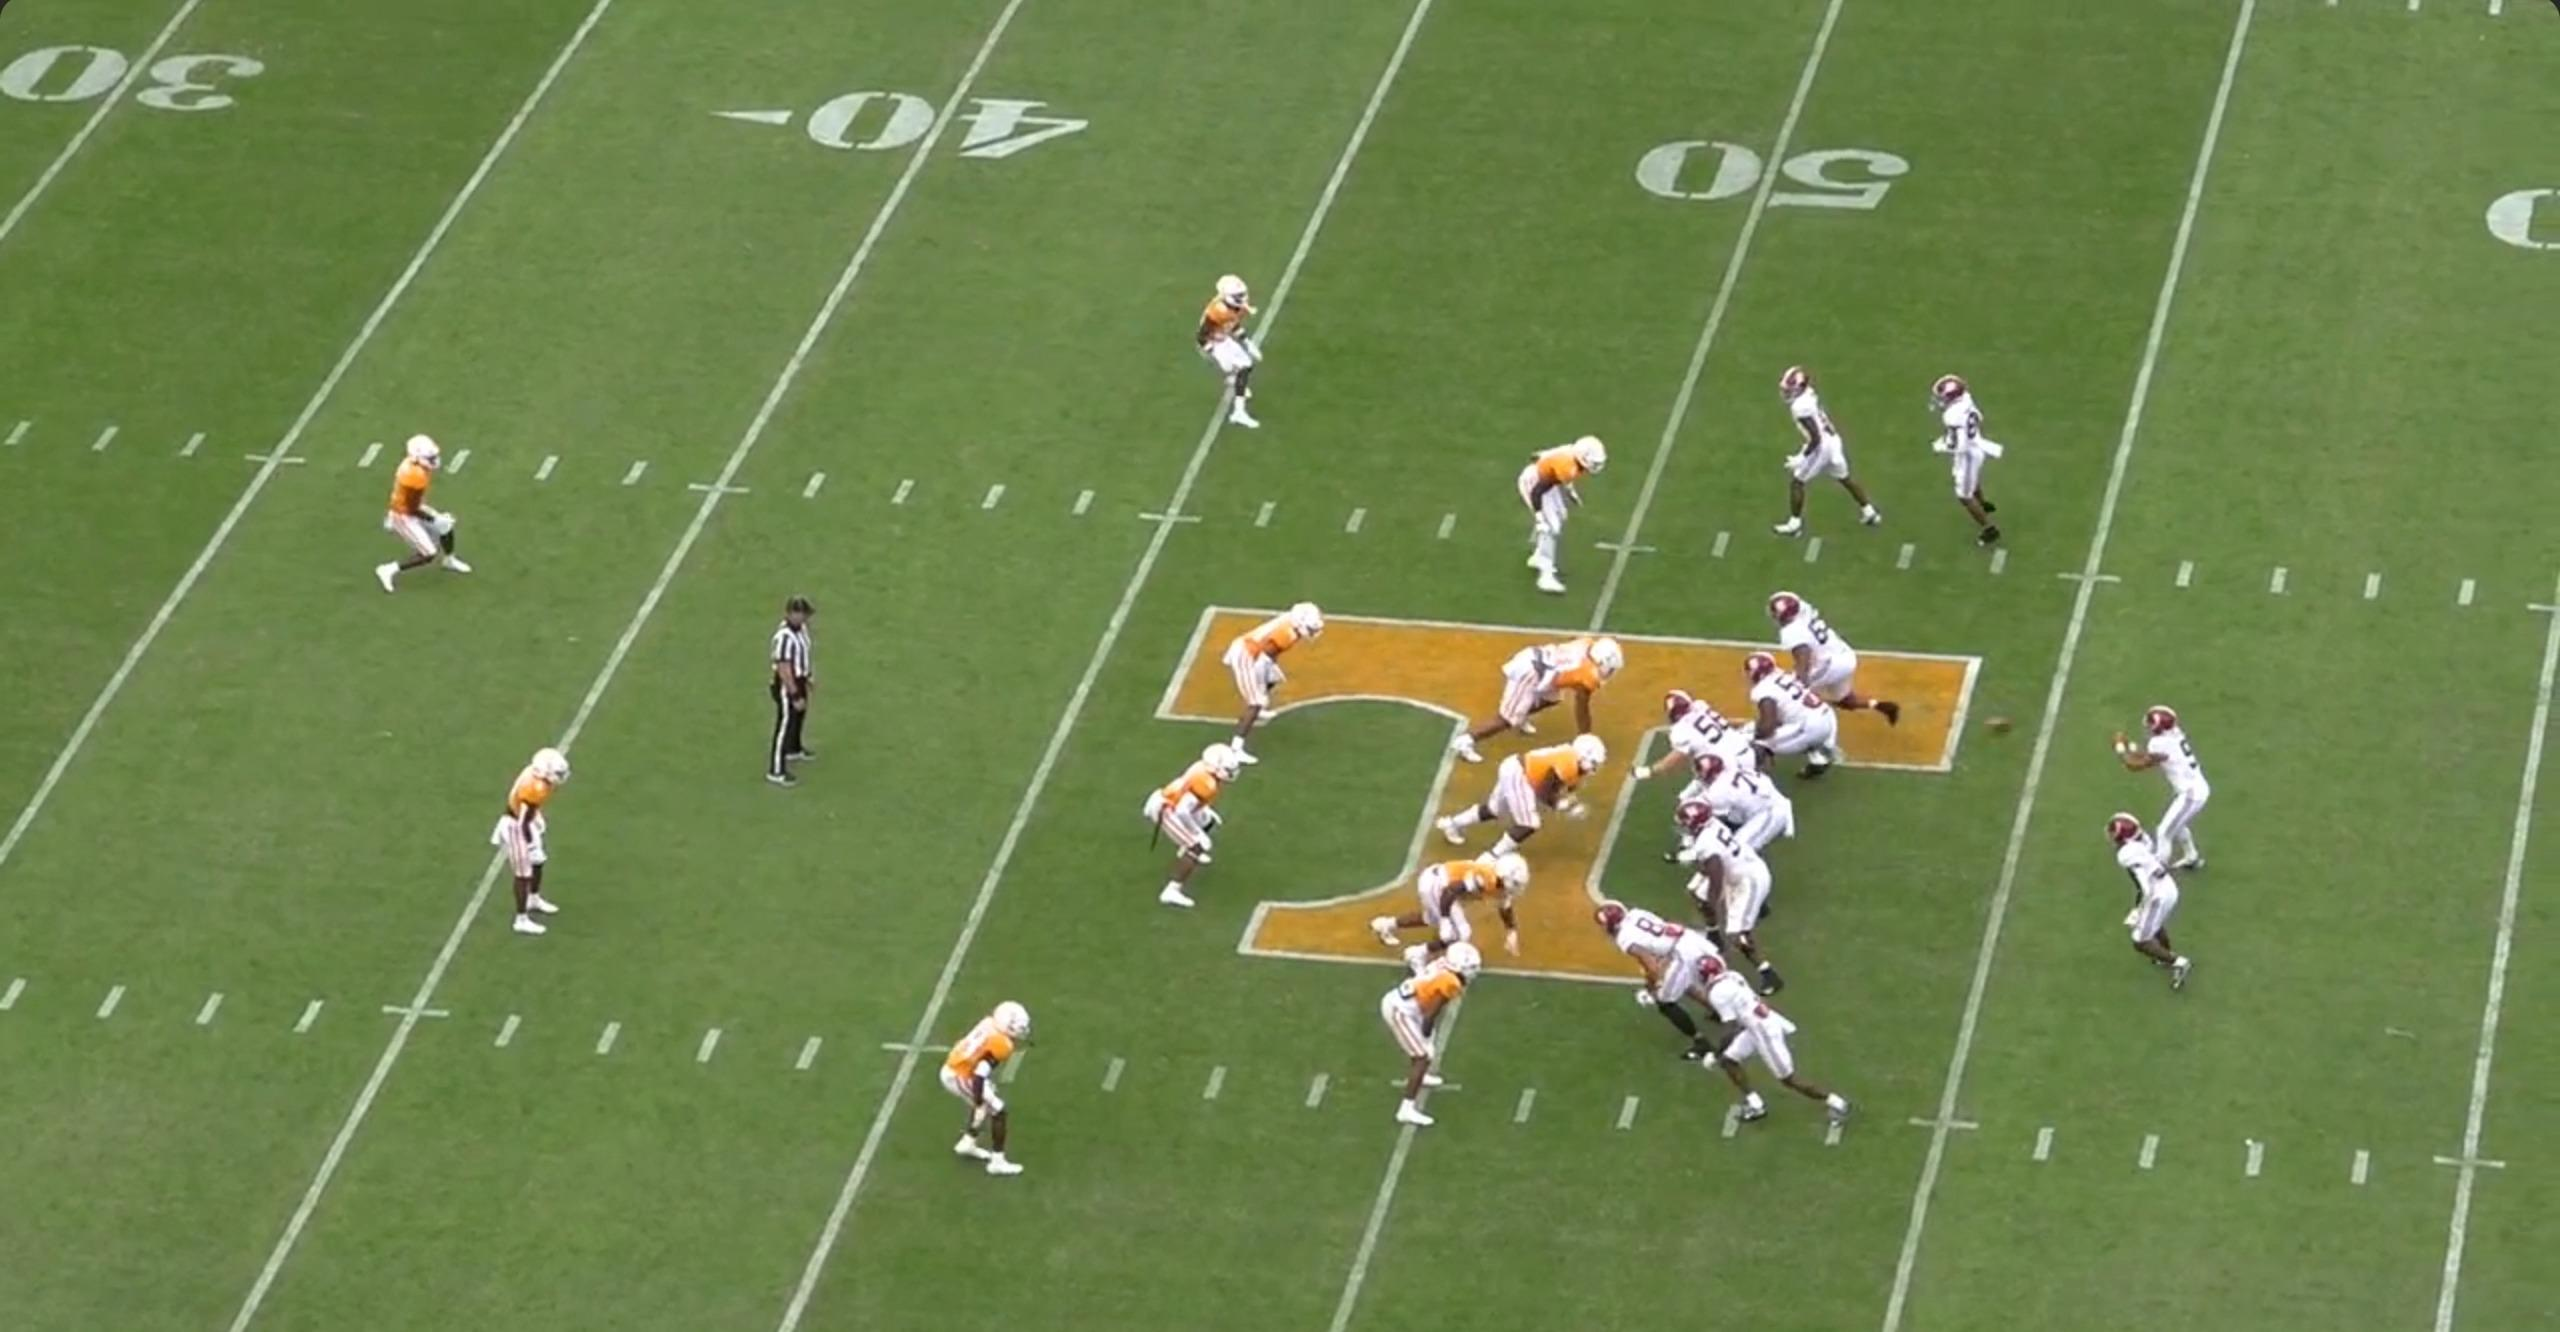player: (1677, 954, 1854, 1142), (1448, 628, 1627, 762), (1379, 933, 1492, 1133), (1680, 803, 1797, 993), (1756, 362, 1880, 539), (1424, 737, 1603, 856), (1587, 892, 1722, 1048), (1763, 591, 1904, 739), (935, 994, 1039, 1184), (2105, 813, 2207, 1004), (1212, 596, 1323, 770), (1143, 742, 1249, 921), (371, 423, 480, 597), (2115, 696, 2217, 876), (1517, 428, 1622, 602), (1363, 849, 1526, 955), (486, 745, 569, 951), (1914, 367, 2003, 556), (1740, 652, 1854, 788), (1635, 692, 1761, 807), (1197, 268, 1270, 437), (1677, 760, 1795, 861)
ref: (744, 589, 820, 795)
